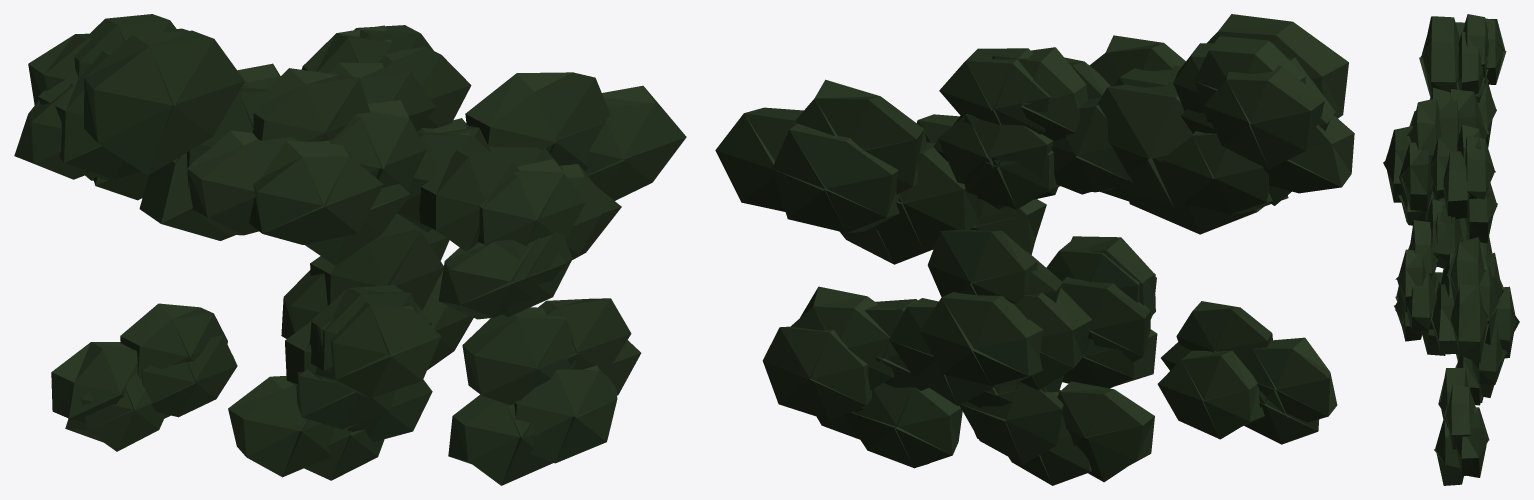
Rendered from tree_m5_far.obj.
The picture shows the model from 3 angles, left to right: view 1: azimuth 30°, elevation 25°; view 2: azimuth 150°, elevation 25°; view 3: azimuth 270°, elevation 25°; orthographic projection. The views are drawn at different scales.
Bounding box in the file's own units: 1.79 × 1.41 × 0.5135.
1 material, 1 textured.
